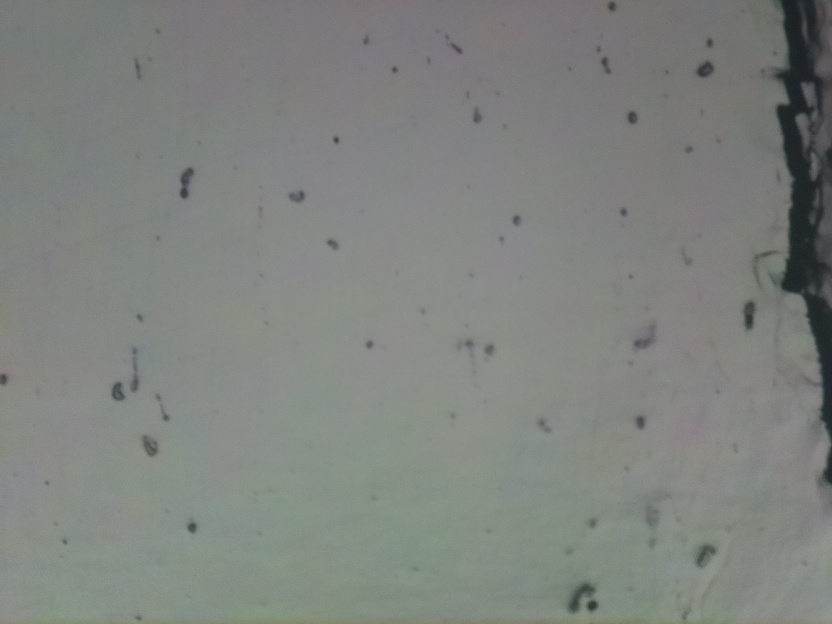crack: (786, 0, 832, 480)
